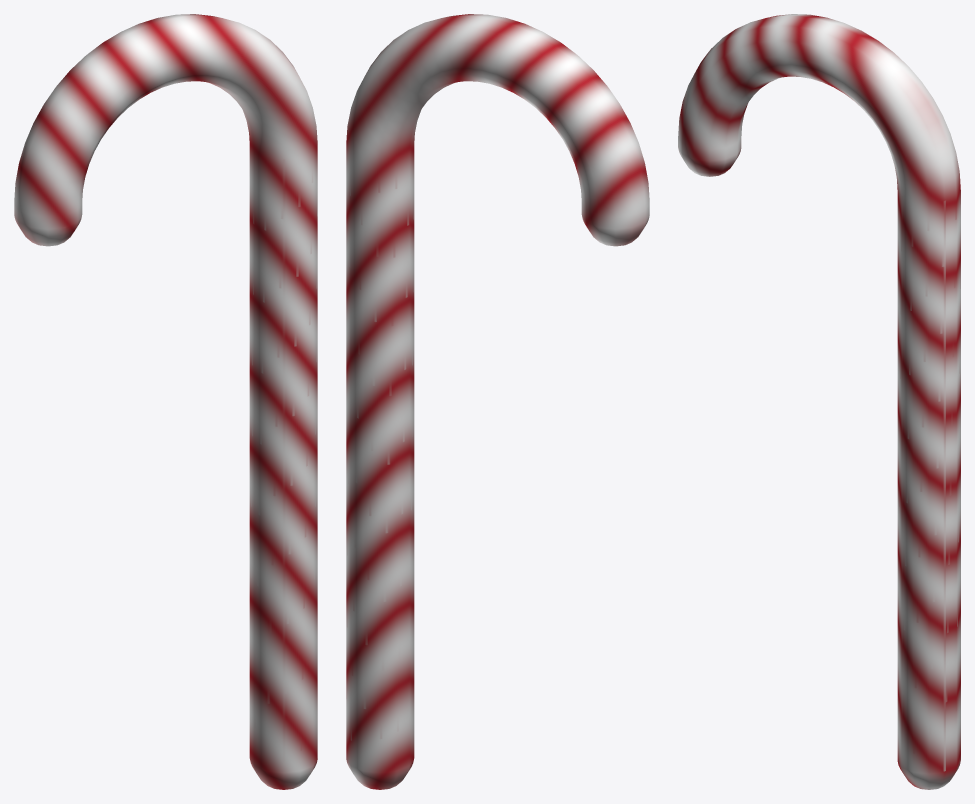
File: candy_stick.glb
The picture shows the model from 3 angles, left to right: view 1: azimuth 30°, elevation 25°; view 2: azimuth 150°, elevation 25°; view 3: azimuth 330°, elevation 25°; orthographic projection. The views are drawn at different scales.
Parts seen in each view (by area): view 1: caramel_nadal_0; view 2: caramel_nadal_0; view 3: caramel_nadal_0.
Part boxes in pixels (x1=…): caramel_nadal_0: x1=14, y1=14, x2=317, y2=789; caramel_nadal_0: x1=346, y1=14, x2=649, y2=789; caramel_nadal_0: x1=678, y1=14, x2=960, y2=789.
Size of the model in its own units: 0.1273 by 0.3297 by 0.0255.
1 material, 1 textured.
